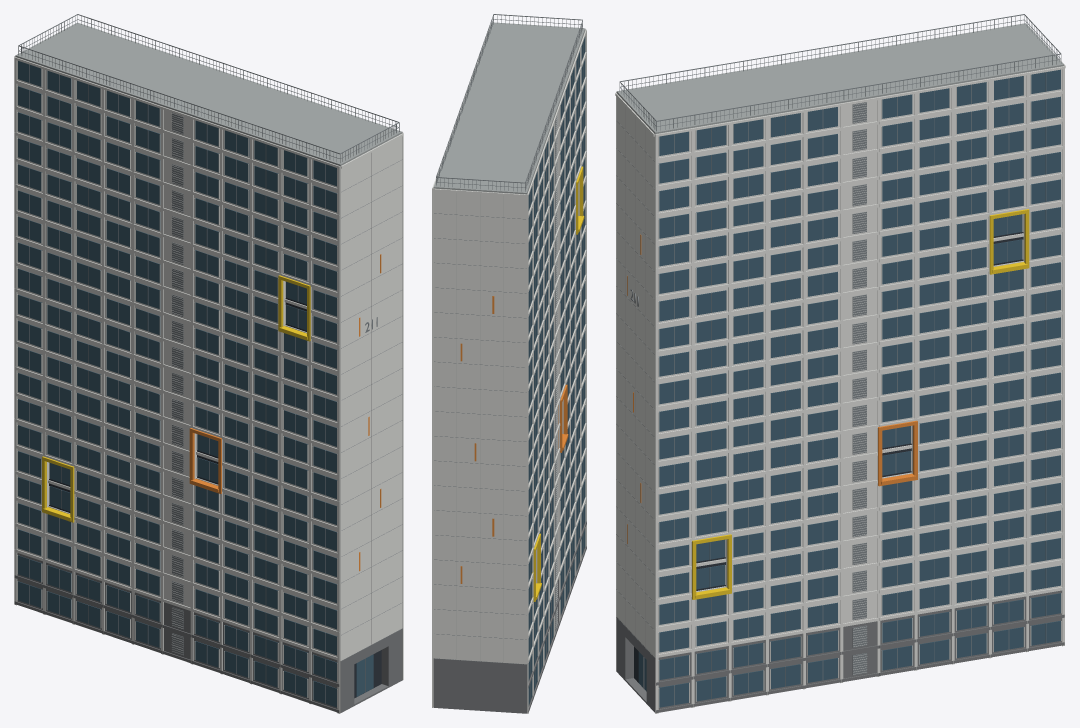
The model's file is bespoke-songpa-helio-city-211.glb.
3 renders of one model, left to right at view 1: azimuth 30°, elevation 25°; view 2: azimuth 150°, elevation 25°; view 3: azimuth 270°, elevation 25°, orthographic. The views are drawn at different scales.
Visible parts, largest first — view 1: Helio211_editable_Helio211_white_slab_frames, Helio211_editable_Helio211_dark_blue_grey_glazing, Helio211_editable_Helio211_low_roof_deck, Helio211_editable_Helio211_grey_service_grille, Helio211_editable_Helio211_dark_grey_twofloor_base, Helio211_editable_Helio211_blankwall_grey_panels, Helio211_editable_Helio211_yellow_projecting_rectangular_fra, Helio211_editable_Helio211_orange_narrow_accent, Helio211_editable_Helio211_deep_shaded_frame_recess; view 2: Helio211_editable_Helio211_white_slab_frames, Helio211_editable_Helio211_dark_blue_grey_glazing, Helio211_editable_Helio211_low_roof_deck, Helio211_editable_Helio211_grey_service_grille, Helio211_editable_Helio211_dark_grey_twofloor_base, Helio211_editable_Helio211_blankwall_grey_panels, Helio211_editable_Helio211_yellow_projecting_rectangular_fra, Helio211_editable_Helio211_orange_narrow_accent; view 3: Helio211_editable_Helio211_dark_blue_grey_glazing, Helio211_editable_Helio211_white_slab_frames, Helio211_editable_Helio211_low_roof_deck, Helio211_editable_Helio211_grey_service_grille, Helio211_editable_Helio211_dark_grey_twofloor_base, Helio211_editable_Helio211_blankwall_grey_panels, Helio211_editable_Helio211_yellow_projecting_rectangular_fra, Helio211_editable_Helio211_orange_narrow_accent, Helio211_editable_Helio211_deep_shaded_frame_recess.
Boxes of the visible parts, x1,y1,x2,y2 form: Helio211_editable_Helio211_white_slab_frames: [14, 56, 403, 713]; Helio211_editable_Helio211_dark_blue_grey_glazing: [18, 61, 373, 707]; Helio211_editable_Helio211_low_roof_deck: [15, 22, 402, 165]; Helio211_editable_Helio211_grey_service_grille: [18, 14, 402, 703]; Helio211_editable_Helio211_dark_grey_twofloor_base: [14, 553, 402, 713]; Helio211_editable_Helio211_blankwall_grey_panels: [172, 113, 371, 654]; Helio211_editable_Helio211_yellow_projecting_rectangular_fra: [42, 275, 310, 522]; Helio211_editable_Helio211_orange_narrow_accent: [189, 254, 381, 571]; Helio211_editable_Helio211_deep_shaded_frame_recess: [49, 297, 381, 698]; Helio211_editable_Helio211_white_slab_frames: [432, 24, 586, 713]; Helio211_editable_Helio211_dark_blue_grey_glazing: [528, 36, 585, 705]; Helio211_editable_Helio211_low_roof_deck: [433, 22, 585, 194]; Helio211_editable_Helio211_grey_service_grille: [434, 14, 583, 701]; Helio211_editable_Helio211_dark_grey_twofloor_base: [433, 521, 586, 713]; Helio211_editable_Helio211_blankwall_grey_panels: [456, 114, 557, 662]; Helio211_editable_Helio211_yellow_projecting_rectangular_fra: [532, 166, 584, 601]; Helio211_editable_Helio211_orange_narrow_accent: [460, 296, 568, 583]; Helio211_editable_Helio211_dark_blue_grey_glazing: [638, 69, 1060, 707]; Helio211_editable_Helio211_white_slab_frames: [615, 24, 1065, 713]; Helio211_editable_Helio211_low_roof_deck: [616, 23, 1064, 133]; Helio211_editable_Helio211_grey_service_grille: [616, 14, 1061, 705]; Helio211_editable_Helio211_dark_grey_twofloor_base: [616, 590, 1064, 713]; Helio211_editable_Helio211_blankwall_grey_panels: [625, 102, 867, 674]; Helio211_editable_Helio211_yellow_projecting_rectangular_fra: [692, 209, 1029, 599]; Helio211_editable_Helio211_orange_narrow_accent: [627, 234, 917, 543]; Helio211_editable_Helio211_deep_shaded_frame_recess: [634, 232, 1023, 682].
Size of the model in its own units: 24.05 by 59.8 by 41.32.
